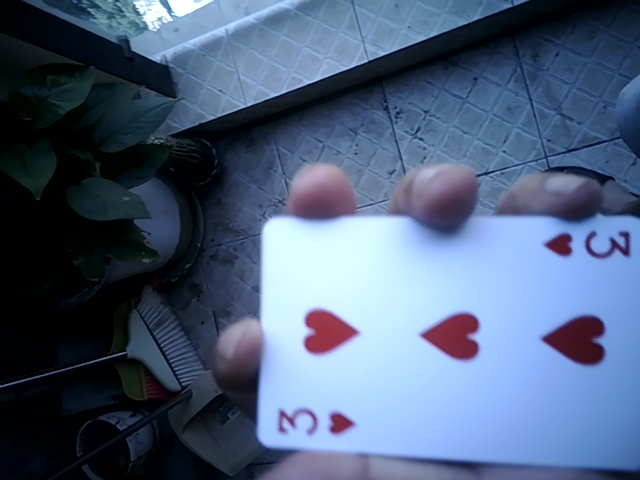hx 3: (251, 212, 640, 456)
